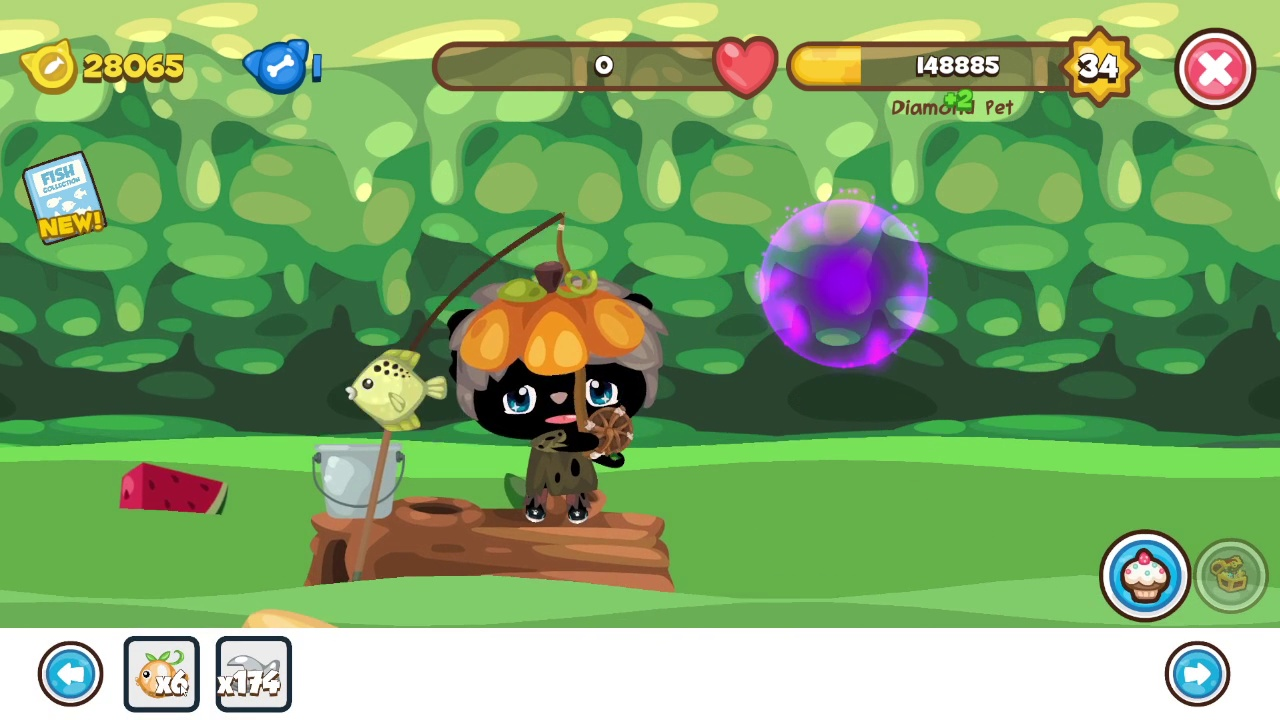point: (758, 198, 931, 372)
